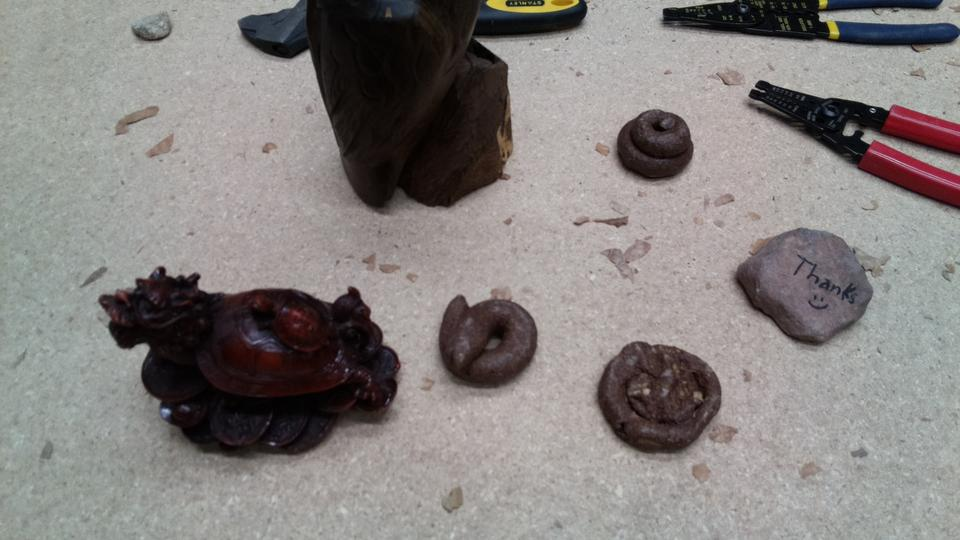poop: (593, 338, 727, 461), (437, 293, 540, 386), (611, 103, 699, 186)
